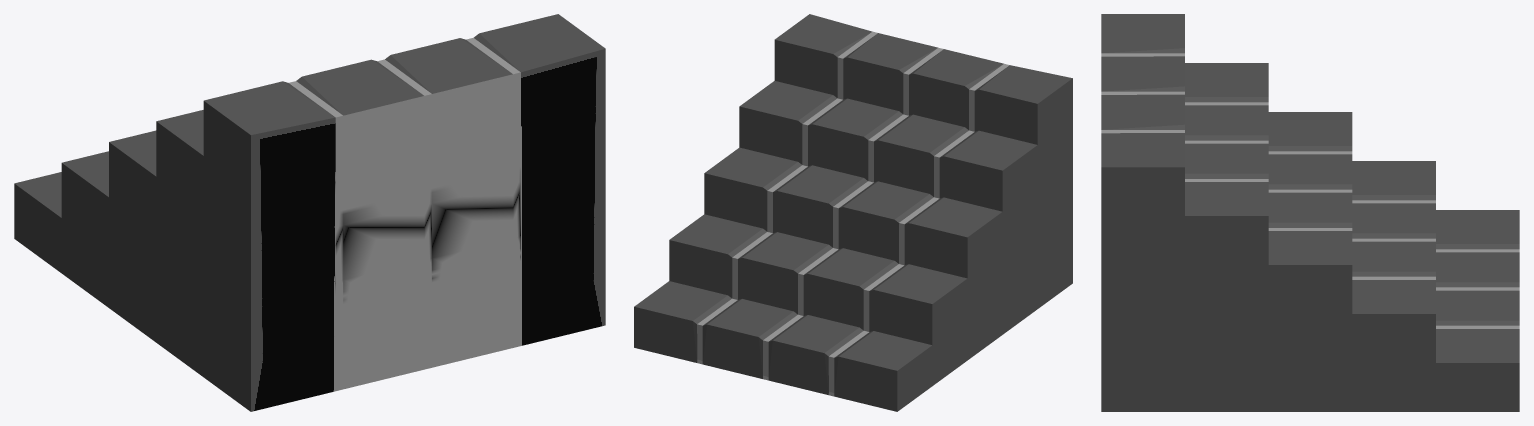
The model's file is StoneStairs(M).fbx.
3 renders of one model, left to right at view 1: azimuth 30°, elevation 25°; view 2: azimuth 150°, elevation 25°; view 3: azimuth 270°, elevation 25°, orthographic. The views are drawn at different scales.
Parts seen in each view (by area): view 1: Cube.001; view 2: Cube.001; view 3: Cube.001.
Part boxes in pixels (bbox=[...]): Cube.001: bbox=[14, 14, 605, 411]; Cube.001: bbox=[634, 14, 1072, 411]; Cube.001: bbox=[1101, 14, 1519, 411].
Bounding box in the file's own units: 245 × 183 × 284.
